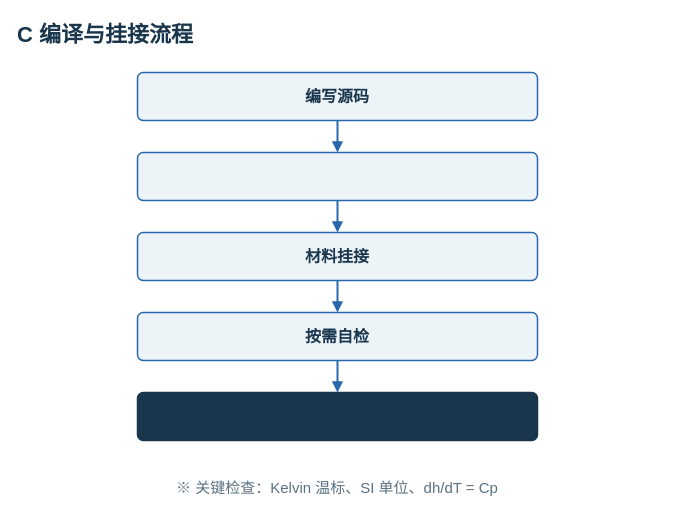
This 674x519 diagram has some shape labels left out. The centre of each missing label's shape, as x and y in pixels:
Build / Load: (337,176)
重新求解与守恒检查: (337,416)
